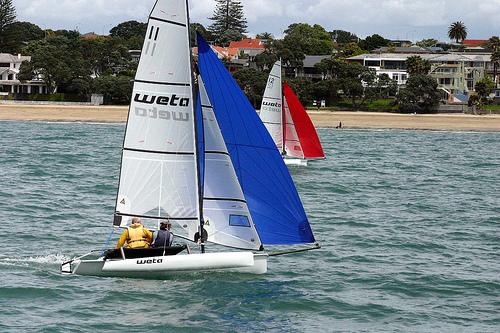Ship: (63, 1, 322, 279), (259, 57, 328, 171)
